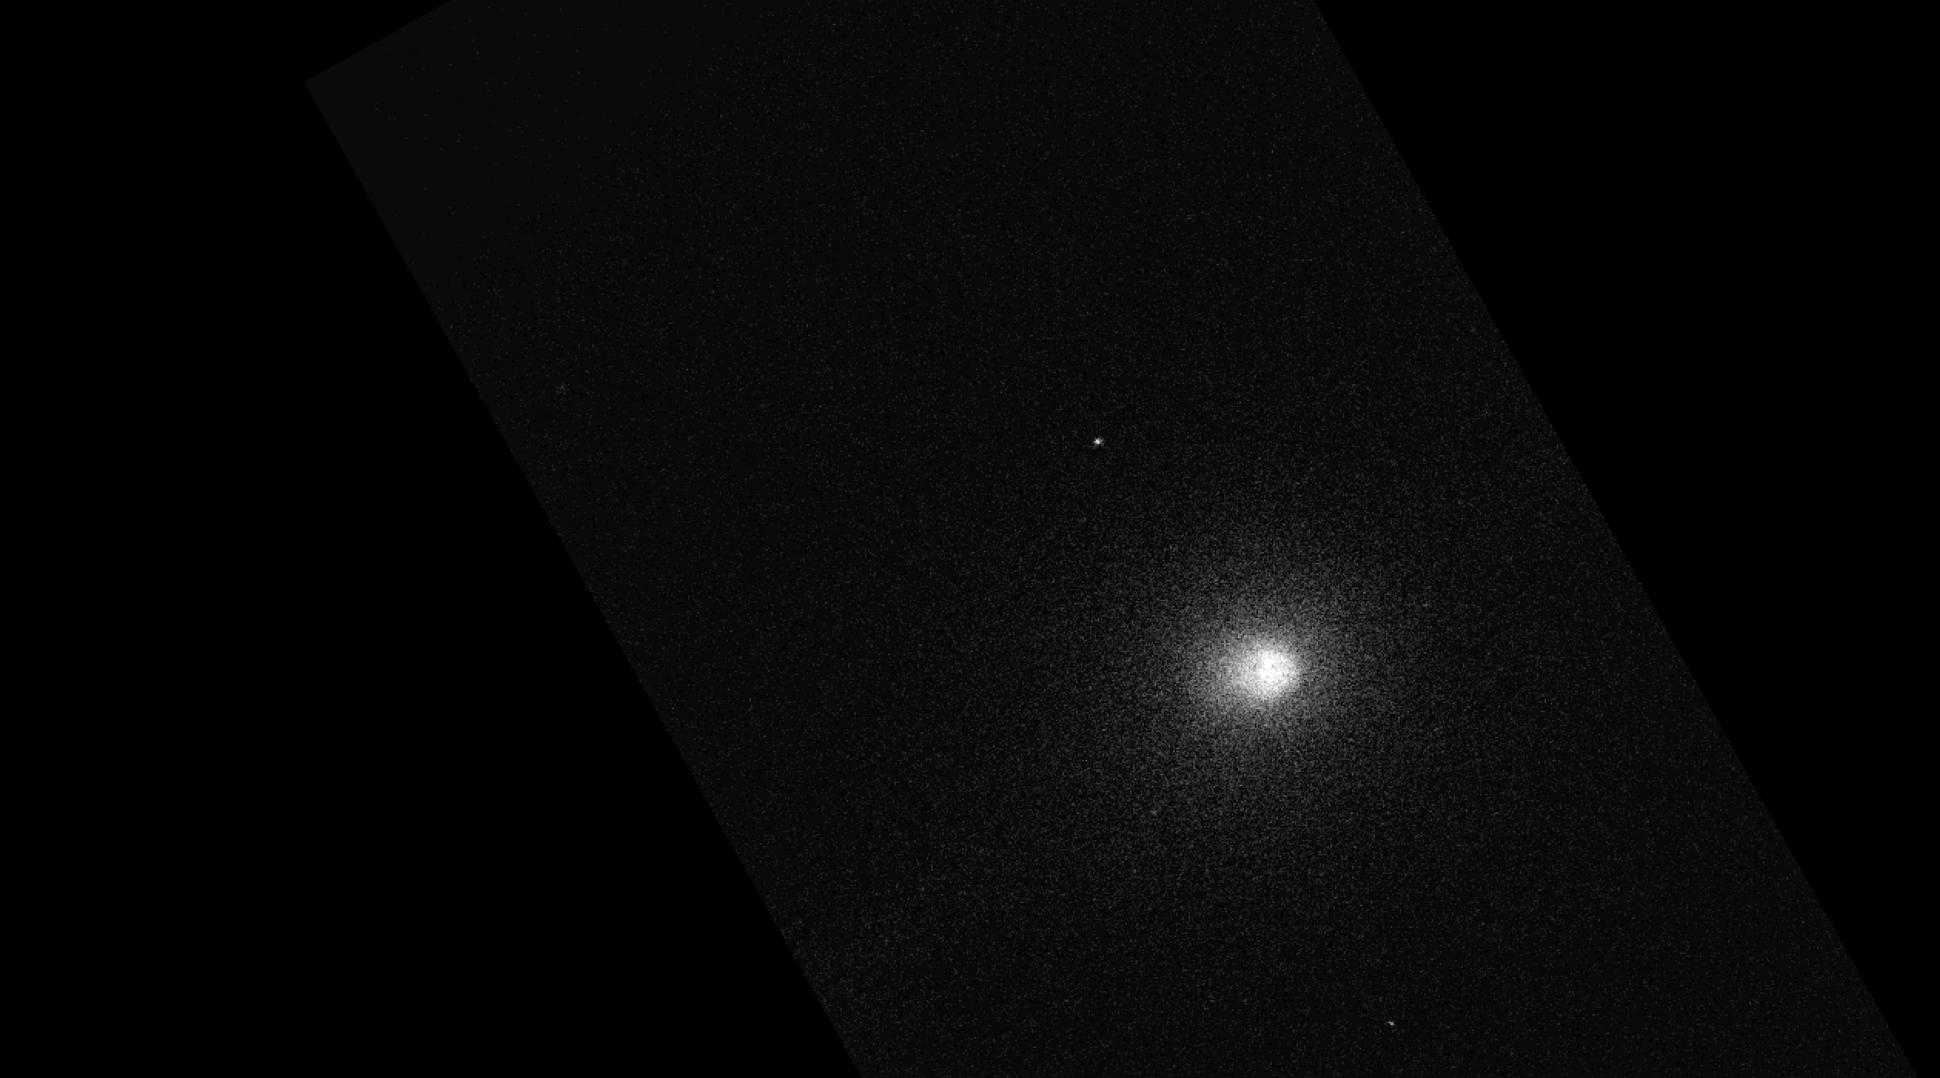Cavity: (1284, 664, 1296, 678), (1247, 661, 1261, 673)
Galaxy: (1162, 607, 1351, 739)
